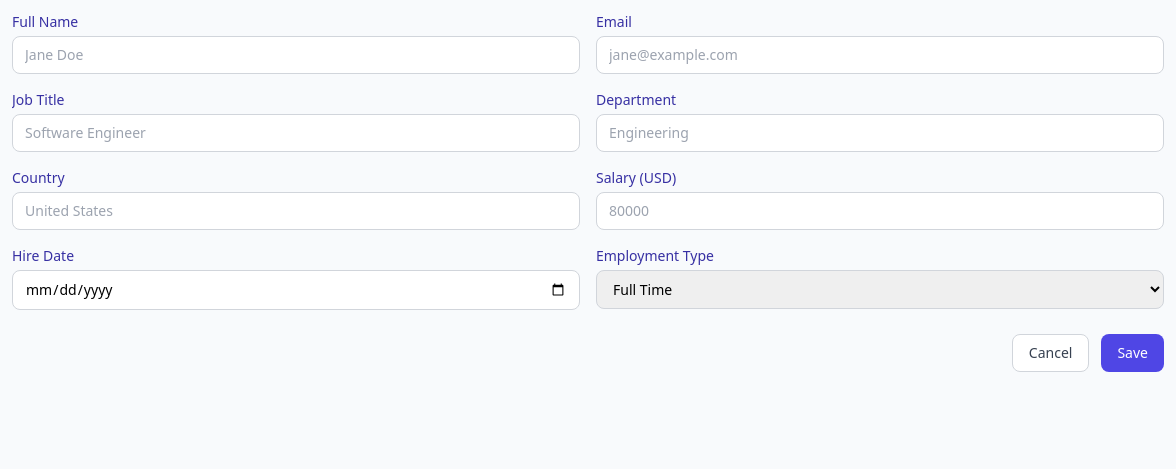
Scenario: EmployeeForm › shows validation errors when submitted with empty fields
Click the button "Save". click: (1133, 353)
box: [1101, 334, 1164, 372]
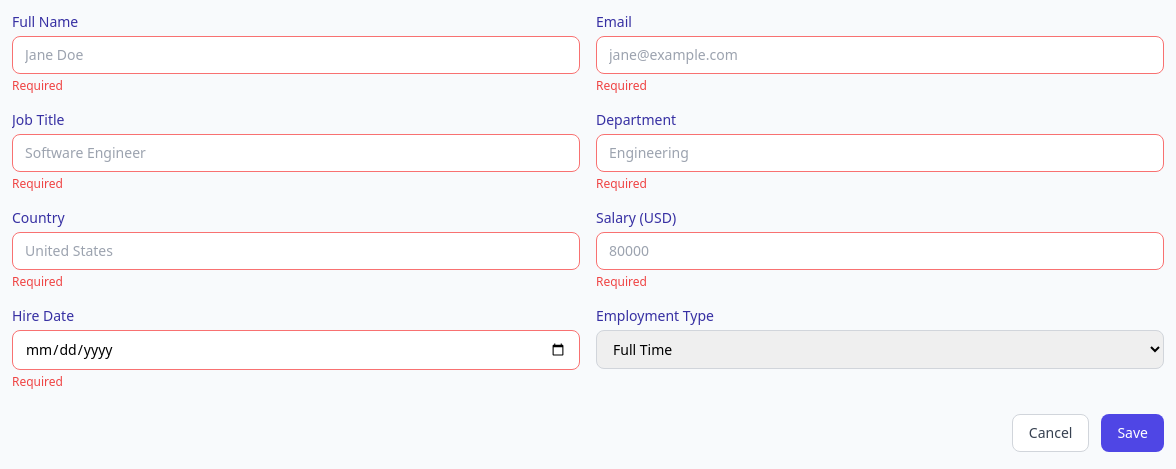
Expected: the text "Required" below "Full Name" is shown, [12, 77, 63, 94]
